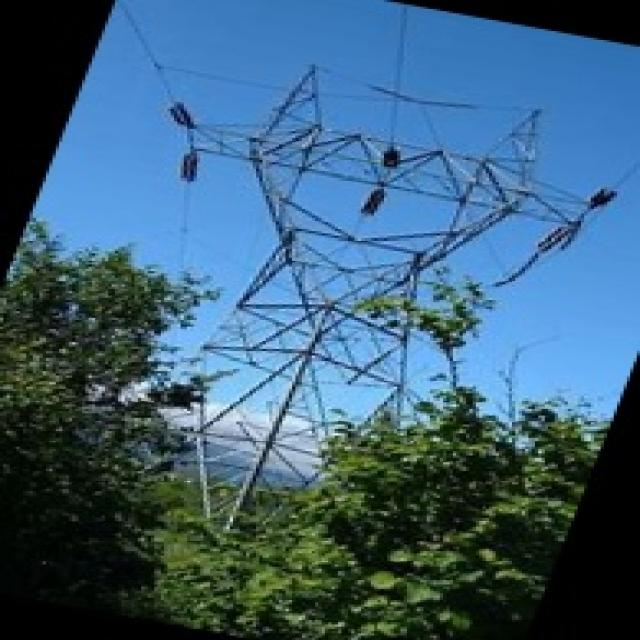utility poles: (348, 268, 576, 439), (98, 237, 276, 412)
